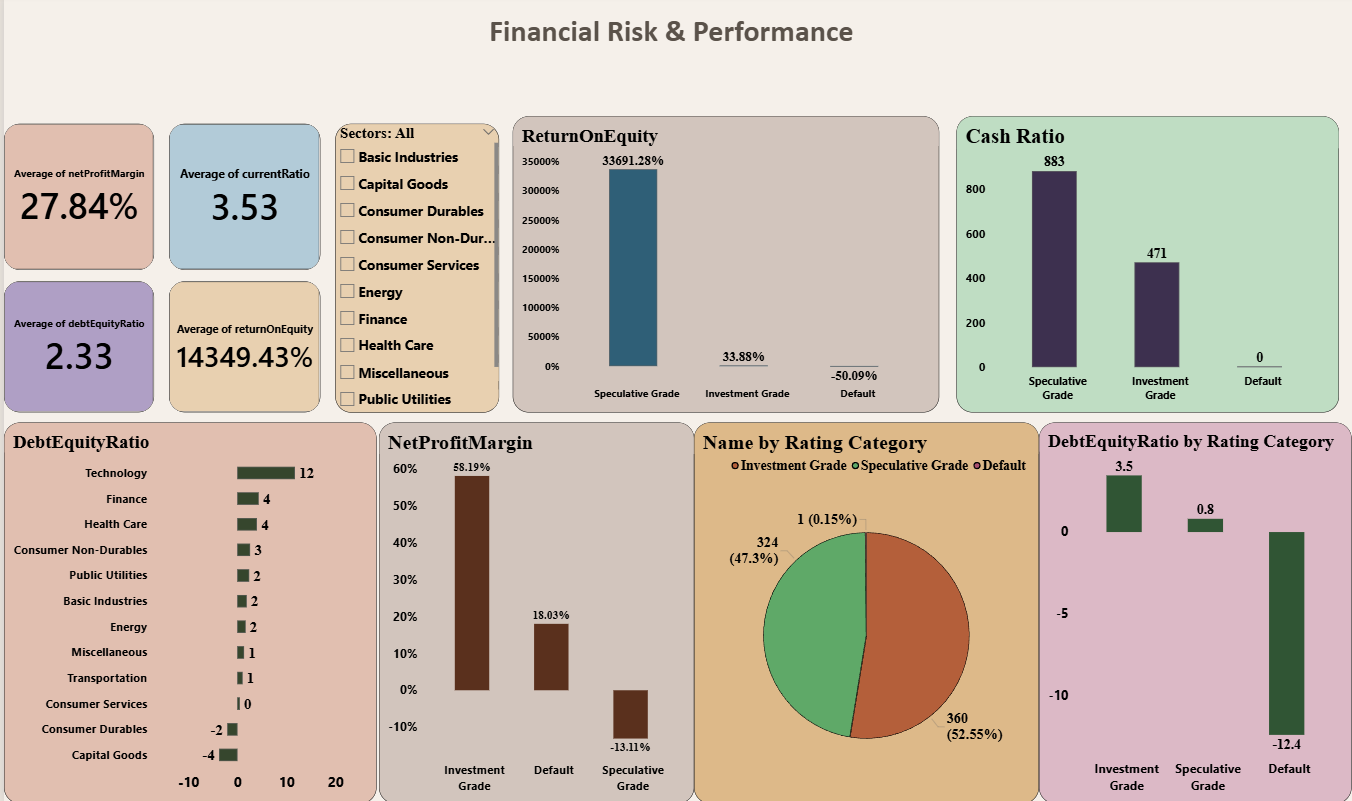

The dashboard page shown, as its layout file describes it:
{"tool":"powerbi","page":{"name":"Page 2","canvas":[2500,1500],"ordinal":1},"visuals":[{"type":"cardVisual","fields":{"Data":["Avg(Data.netProfitMargin)"]},"box":[0,238.9,278.3,271.3],"z":0},{"type":"cardVisual","fields":{"Data":["Avg(Data.debtEquityRatio)"]},"box":[0,531.1,278.3,243.5],"z":1000},{"type":"cardVisual","fields":{"Data":["Avg(Data.returnOnEquity)"]},"box":[306.1,531.1,280.6,243.5],"z":2000},{"type":"columnChart","title":"NetProfitMargin","fields":{"Category":["Data.Rating Category"],"Y":["Avg(Data.netProfitMargin)"]},"box":[695.7,793.1,584.4,707.3],"z":3000},{"type":"clusteredColumnChart","title":" DebtEquityRatio by Rating Category","fields":{"Category":["Data.Rating Category"],"Y":["Avg(Data.debtEquityRatio)"]},"box":[1920.2,793.1,579.8,707.3],"z":4000},{"type":"clusteredColumnChart","title":"ReturnOnEquity","fields":{"Category":["Data.Rating Category"],"Y":["Avg(Data.returnOnEquity)"]},"box":[943.9,225,790.8,549.6],"z":5000},{"type":"clusteredBarChart","title":"DebtEquityRatio","fields":{"Category":["Data.Sector"],"Y":["Avg(Data.debtEquityRatio)"]},"box":[0,793.1,691.1,707.3],"z":6000},{"type":"pieChart","title":"Name by Rating Category","fields":{"Category":["Data.Rating Category"],"Y":["Count(Data.Name)"]},"box":[1280.2,793.1,640.1,707.3],"z":7000},{"type":"clusteredColumnChart","title":"Cash Ratio","fields":{"Category":["Data.Rating Category"],"Y":["Sum(Data.cashRatio)"]},"box":[1767.2,225,709.7,549.6],"z":8000},{"type":"textbox","box":[0,32.5,2476.8,139.1],"z":9000},{"type":"slicer","fields":{"Values":["Data.Sector"]},"box":[614.6,238.9,303.8,535.7],"z":10000},{"type":"cardVisual","fields":{"Data":["Avg(Data.currentRatio)"]},"box":[306.1,238.9,280.6,271.3],"z":11000}]}

Visuals, with their boxes in screenshot pixels (x1, y1, x2, y2), scaled from the page's 2500x1500 canvas onto the 1352x801 screenshot:
cardVisual - Avg(Data.netProfitMargin): <region>0, 128, 151, 272</region>
cardVisual - Avg(Data.debtEquityRatio): <region>0, 284, 151, 414</region>
cardVisual - Avg(Data.returnOnEquity): <region>166, 284, 317, 414</region>
"NetProfitMargin" columnChart: <region>376, 424, 692, 800</region>
" DebtEquityRatio by Rating Category" clusteredColumnChart: <region>1038, 424, 1351, 800</region>
"ReturnOnEquity" clusteredColumnChart: <region>510, 120, 938, 414</region>
"DebtEquityRatio" clusteredBarChart: <region>0, 424, 374, 800</region>
"Name by Rating Category" pieChart: <region>692, 424, 1038, 800</region>
"Cash Ratio" clusteredColumnChart: <region>956, 120, 1340, 414</region>
textbox: <region>0, 17, 1339, 92</region>
slicer - Data.Sector: <region>332, 128, 497, 414</region>
cardVisual - Avg(Data.currentRatio): <region>166, 128, 317, 272</region>
